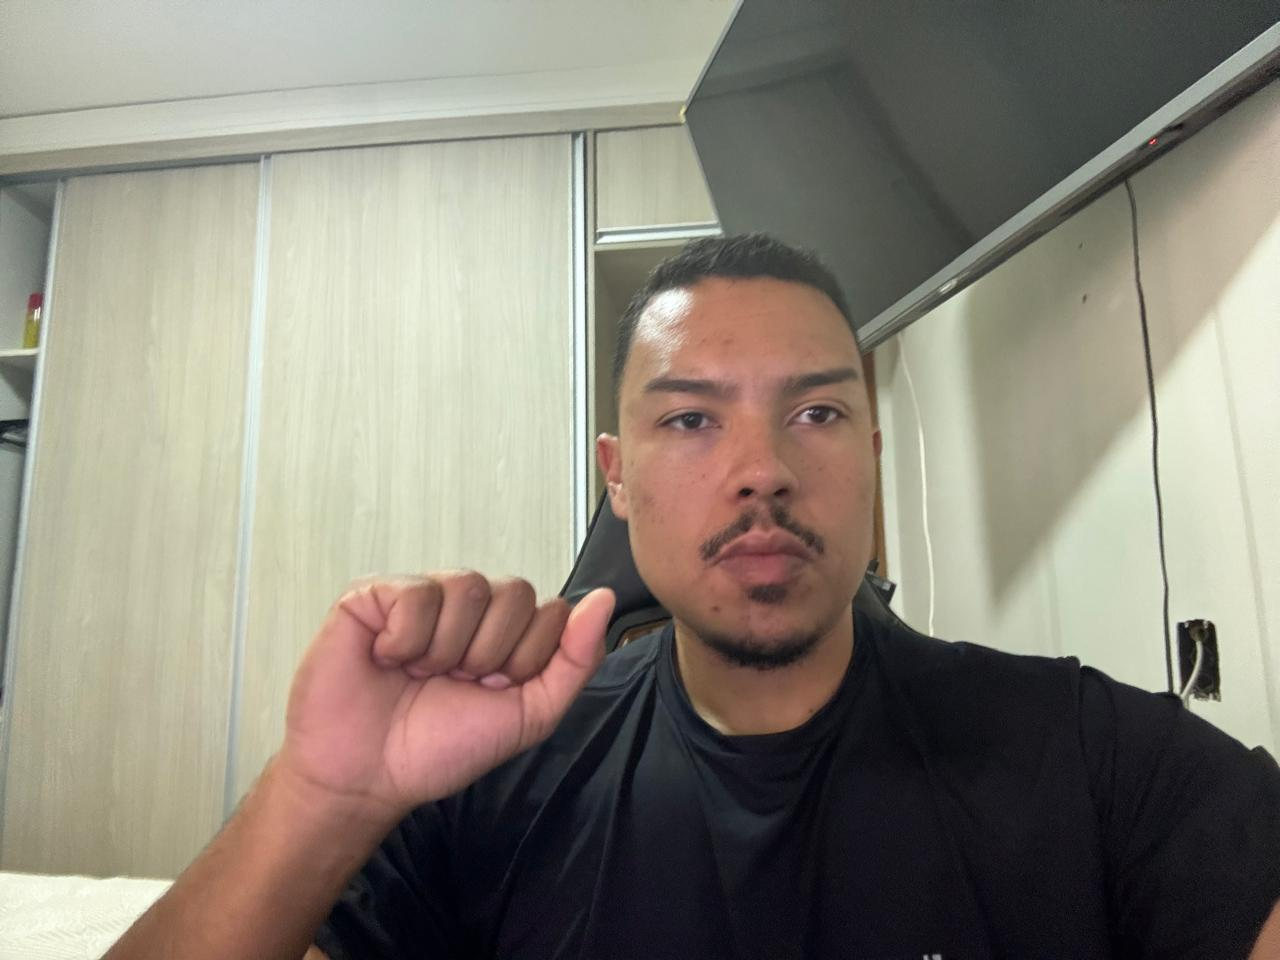a: (278, 558, 617, 820)
